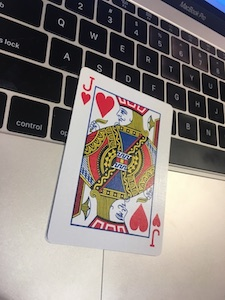JackOfHearts: (40, 64, 176, 258)
